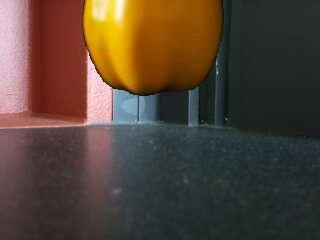Capsicum: (84, 1, 224, 98)
